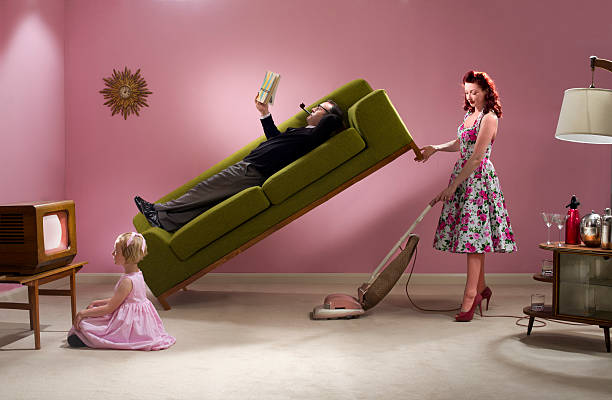without mask: (108, 234, 146, 269), (300, 95, 338, 130), (455, 73, 493, 108)
